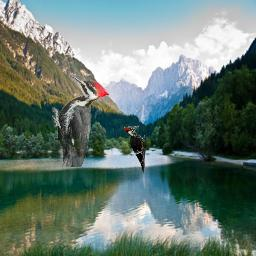Woodpecker: (52, 73, 109, 167), (124, 125, 147, 175)
